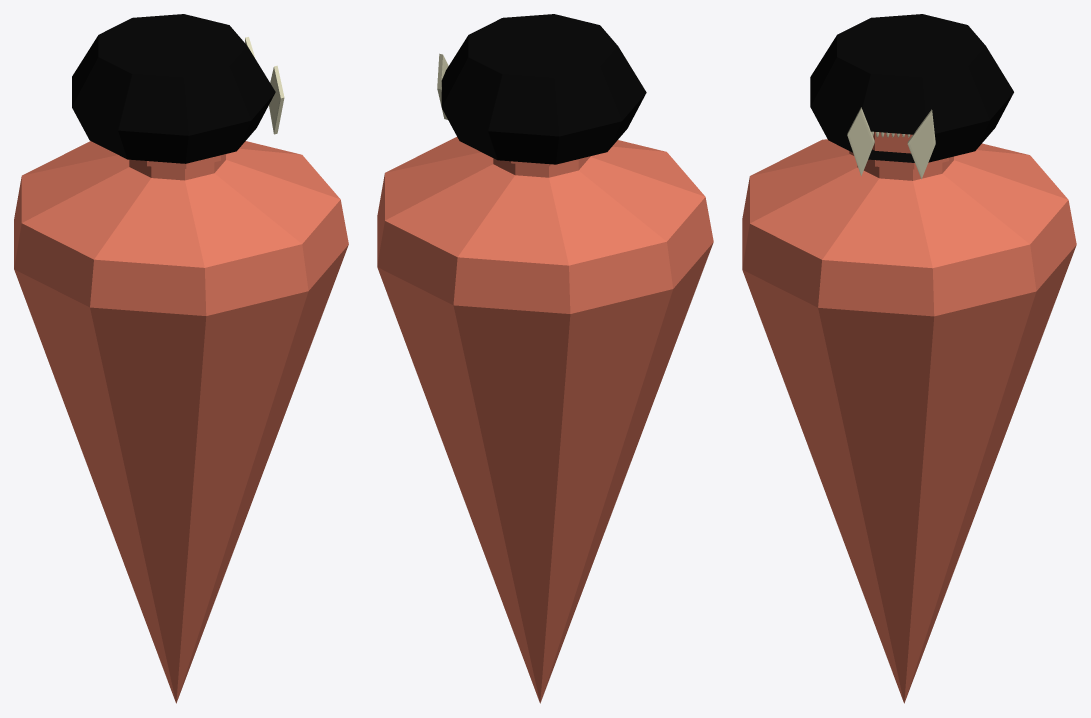
Rendered from vampire.fbx.
3 renders of one model, left to right at view 1: azimuth 30°, elevation 25°; view 2: azimuth 150°, elevation 25°; view 3: azimuth 270°, elevation 25°, orthographic.
Visible parts, largest first — view 1: Cone; view 2: Cone; view 3: Cone.
Boxes of the visible parts, x1,y1,x2,y2 form: Cone: (14,14,348,703); Cone: (377,14,713,703); Cone: (742,14,1076,703).
Bounding box in the file's own units: 197 × 420 × 194.
